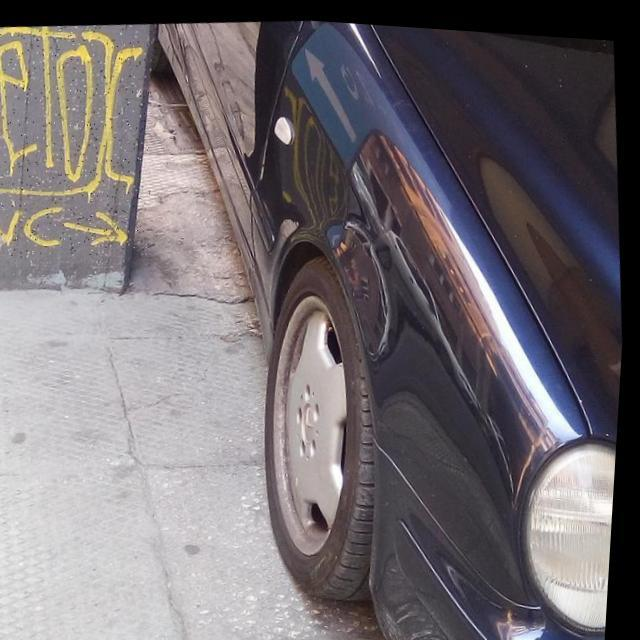-: (0, 14, 164, 267)
